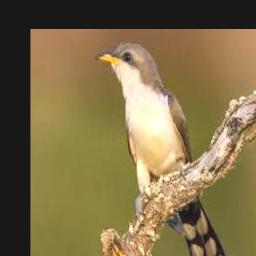Cuckoo: (95, 43, 228, 256)
